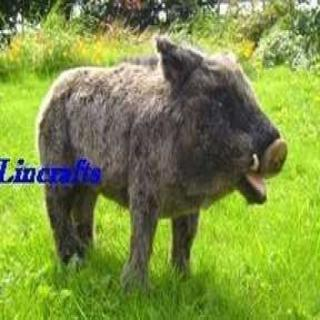Pig: (38, 38, 311, 267)
